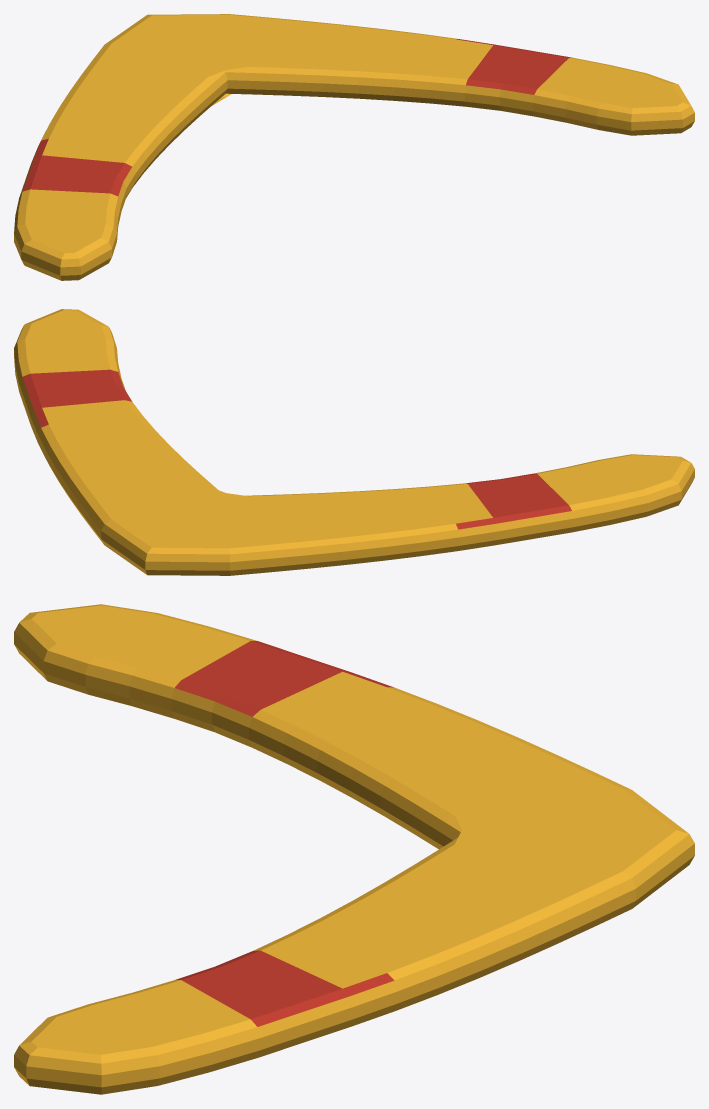
The model's file is boomerang.glb.
The picture shows the model from 3 angles, top to bottom: view 1: azimuth 30°, elevation 25°; view 2: azimuth 150°, elevation 25°; view 3: azimuth 270°, elevation 25°; orthographic projection. The views are drawn at different scales.
Visible parts, largest first — view 1: boomerang; view 2: boomerang; view 3: boomerang.
Part boxes in pixels (box(x1,y1,x2,y2)): boomerang: box(14, 14, 694, 280); boomerang: box(14, 309, 694, 575); boomerang: box(14, 604, 694, 1094).
Bounding box in the file's own units: 0.9 × 0.035 × 0.5585.
